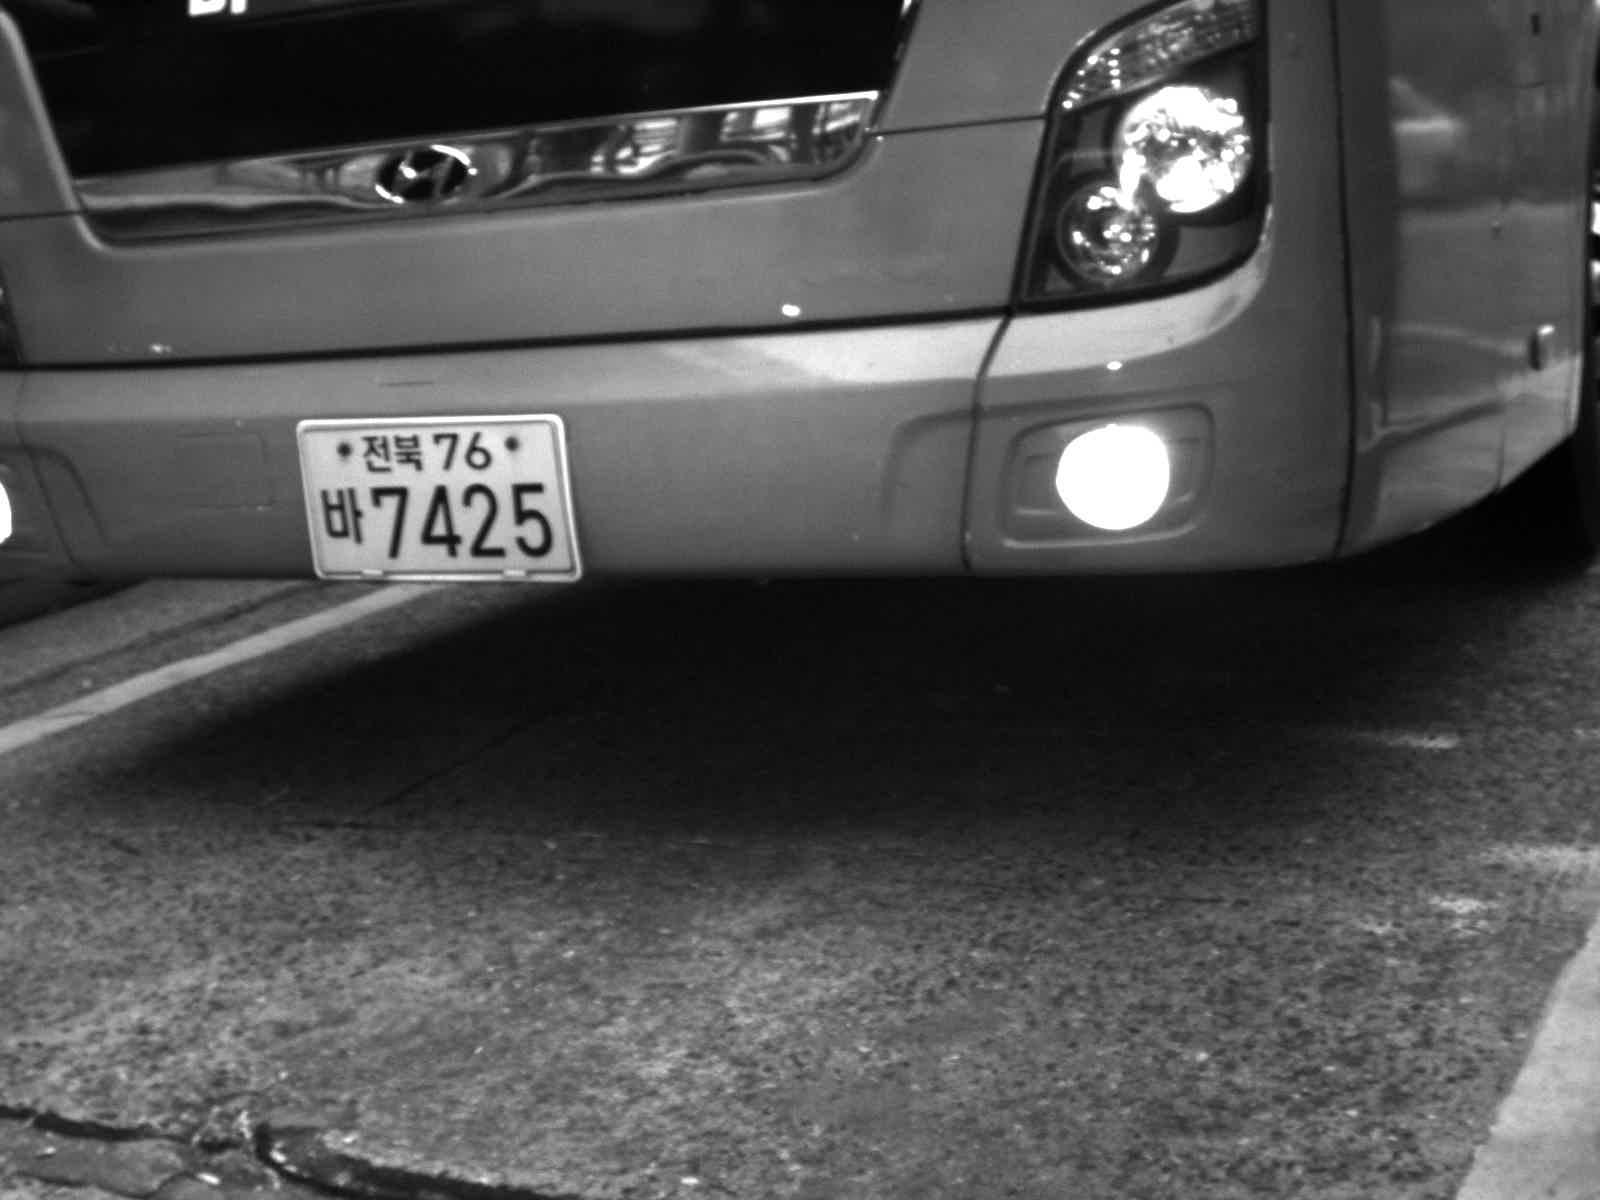P3_전북76바7425: (293, 415, 589, 588)
바: (315, 482, 370, 556)
전북: (355, 431, 423, 478)
